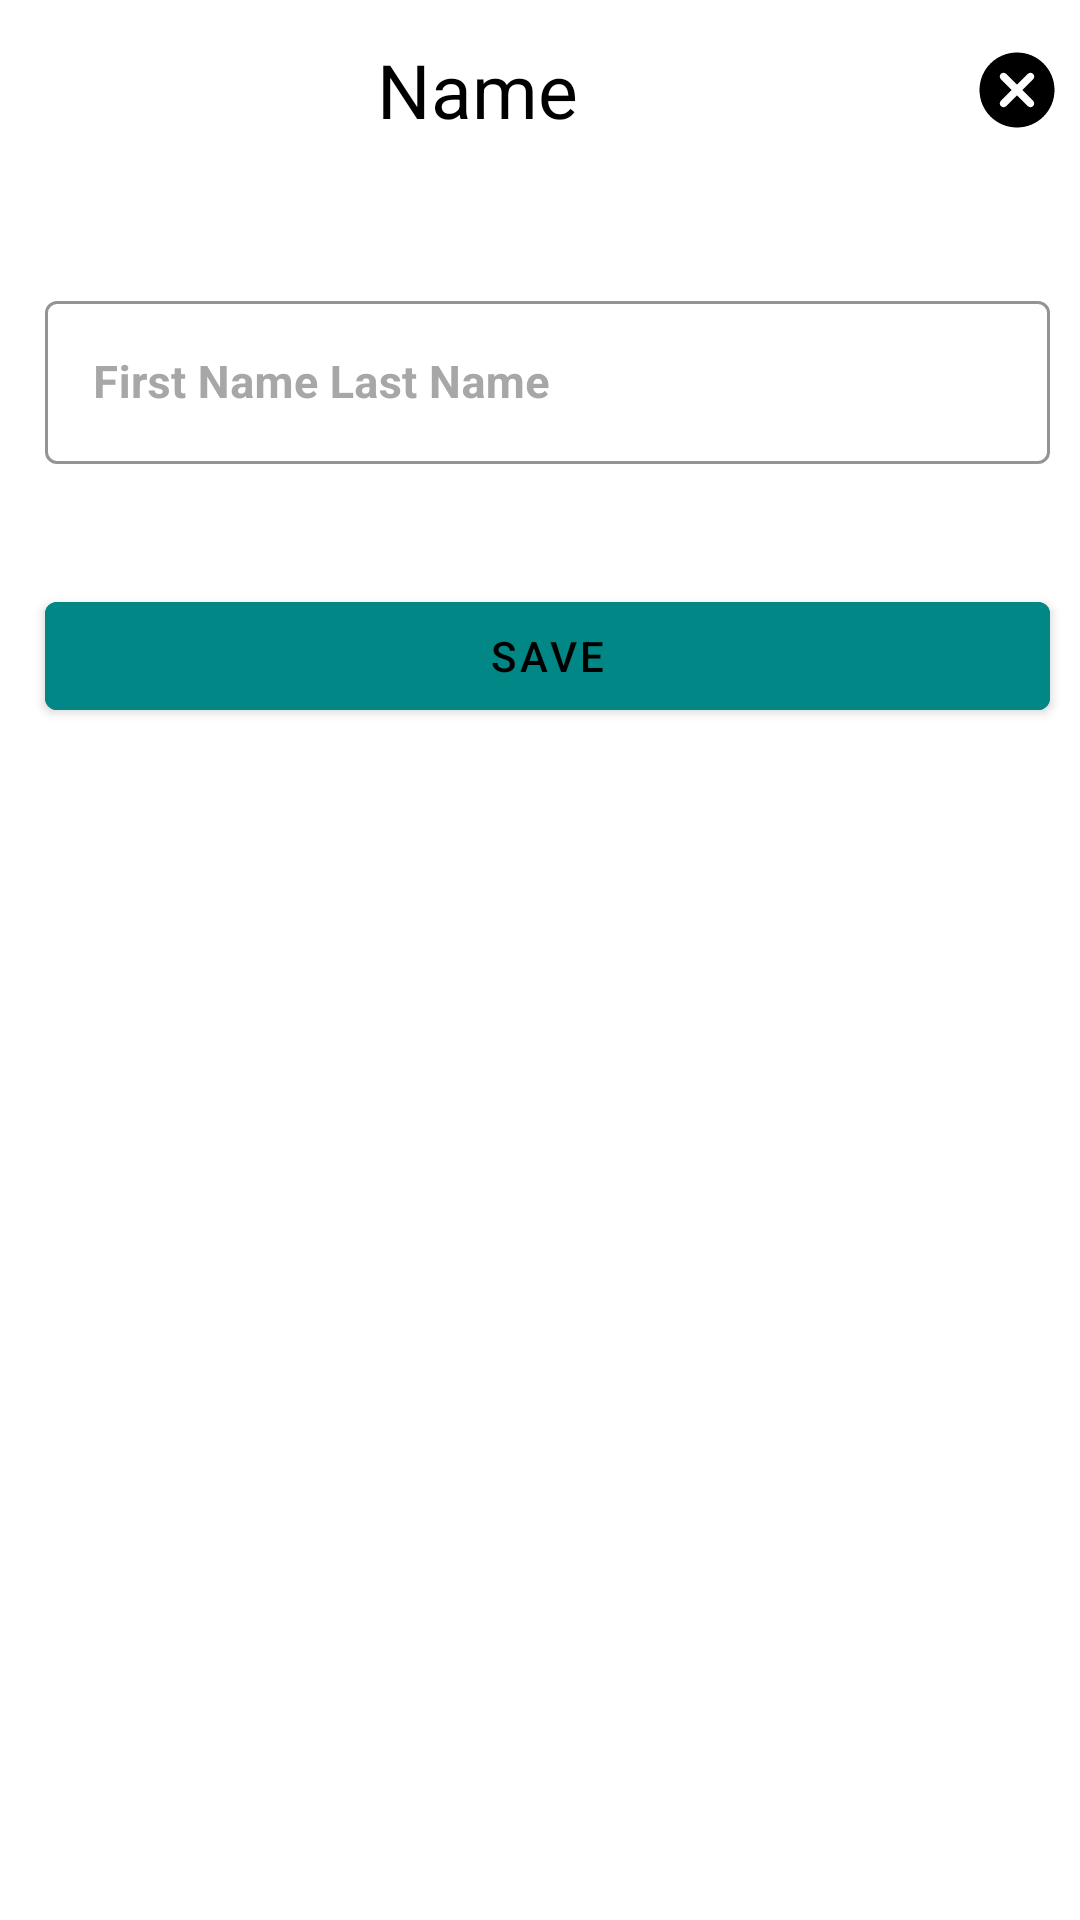

Where to tap for icons on this 1080w x 1920h app screen, as [x,y]:
rcancel: [1017,90]
